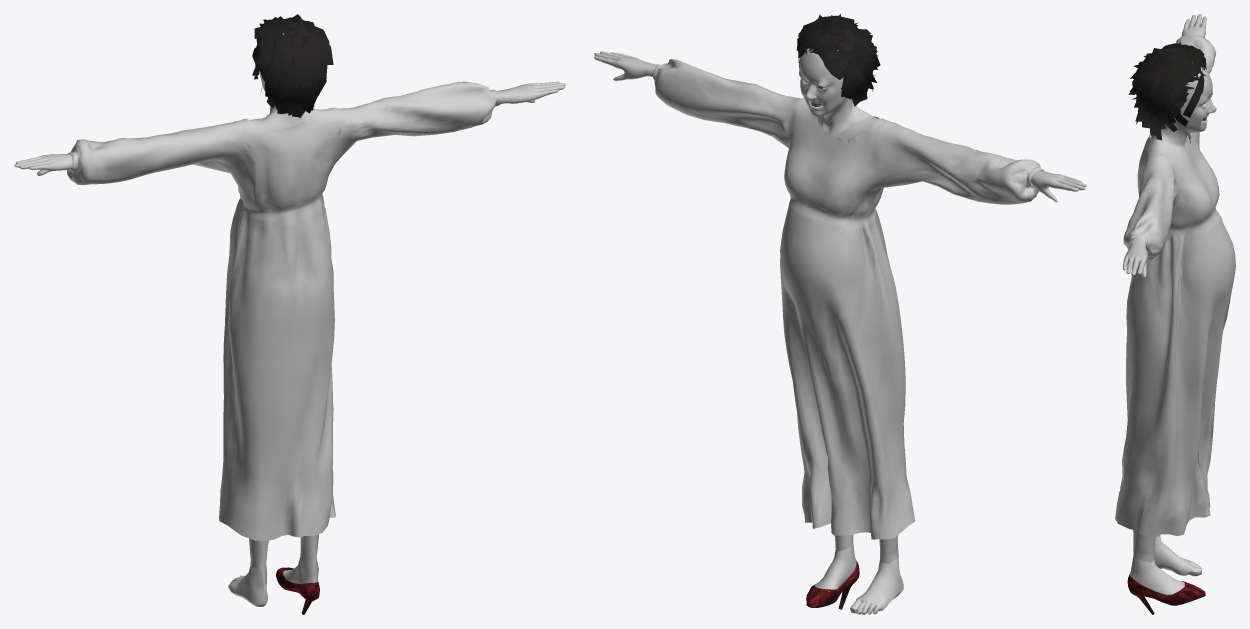
The model's file is ExportedObj;Main_8.obj.
3 renders of one model, left to right at view 1: azimuth 30°, elevation 25°; view 2: azimuth 150°, elevation 25°; view 3: azimuth 270°, elevation 25°, orthographic. The views are drawn at different scales.
Visible parts, largest first — view 1: Object003, Object013, Object016, Object009, Object002; view 2: Object003, Object013, Object016, Object015, Object009, Object002; view 3: Object003, Object013, Object016, Object015, Object009, Object002.
Part boxes in pixels (left/top/right/bottom): Object003: left=67, top=81, right=501, bottom=540; Object013: left=252, top=14, right=333, bottom=117; Object016: left=228, top=115, right=318, bottom=606; Object009: left=14, top=81, right=565, bottom=175; Object002: left=276, top=567, right=319, bottom=614; Object003: left=652, top=59, right=1043, bottom=539; Object013: left=796, top=14, right=880, bottom=106; Object016: left=814, top=110, right=903, bottom=614; Object015: left=799, top=48, right=862, bottom=138; Object009: left=594, top=51, right=1086, bottom=202; Object002: left=806, top=560, right=859, bottom=609; Object003: left=1115, top=35, right=1235, bottom=536; Object013: left=1128, top=42, right=1206, bottom=140; Object016: left=1130, top=135, right=1202, bottom=594; Object015: left=1154, top=62, right=1216, bottom=149; Object009: left=1122, top=14, right=1206, bottom=278; Object002: left=1127, top=574, right=1205, bottom=614.
Size of the model in its own units: 2.68 by 2.92 by 0.5661.
